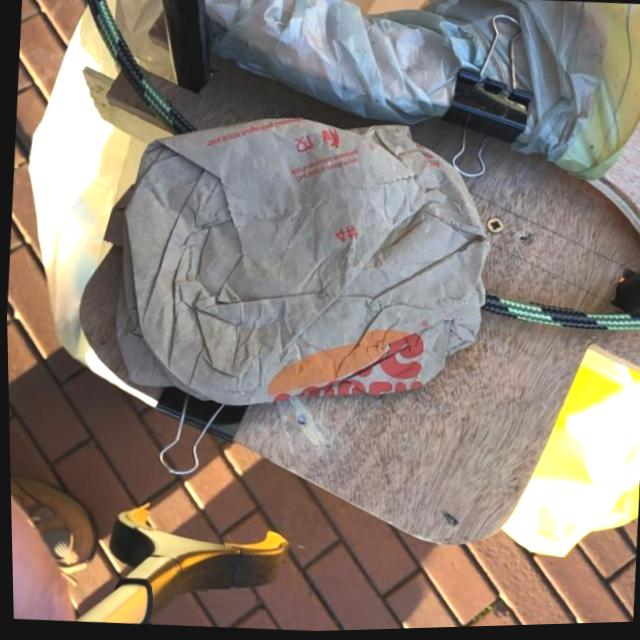Paper: (100, 96, 503, 430)
